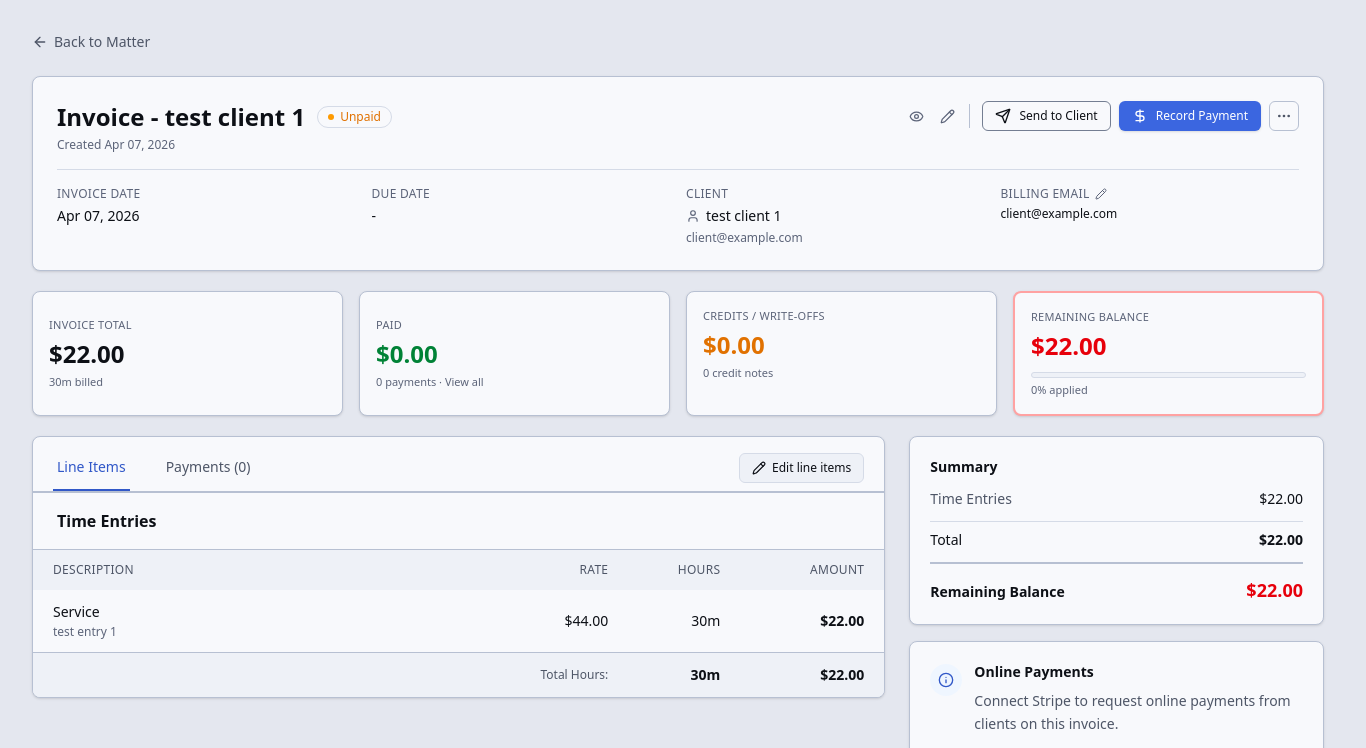
Test case: InvoiceDetailView portal send with a refused attachment › sends the message with the attachment when nothing is refused
The image size is (1366, 748).
Click the button "Send to Client": (1047, 116) [982,101,1111,131]
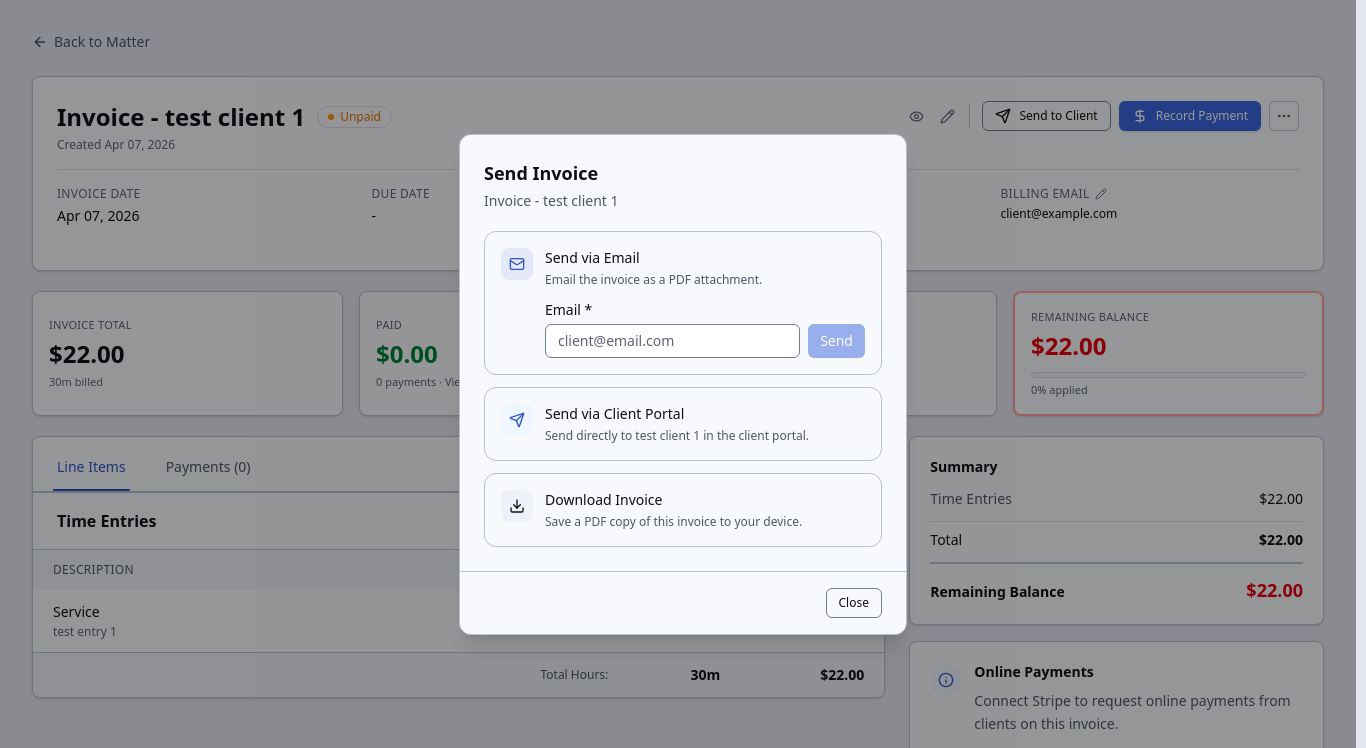
expect the button "Send via Client Portal" is enabled: met
Click the button "Send via Client Portal": (683, 424) [484,386,882,460]
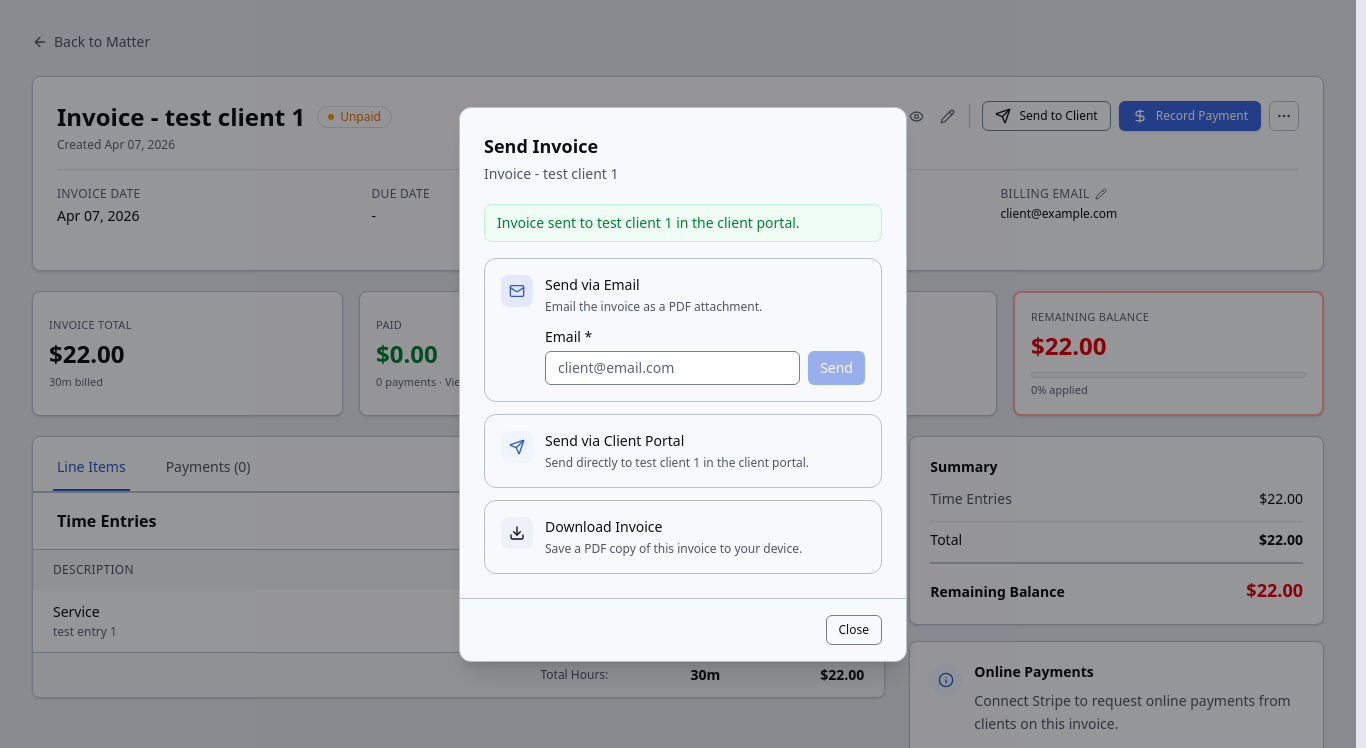
expect the text "Invoice sent to test client 1 in the client portal." is shown: met, box [484,204,882,242]
